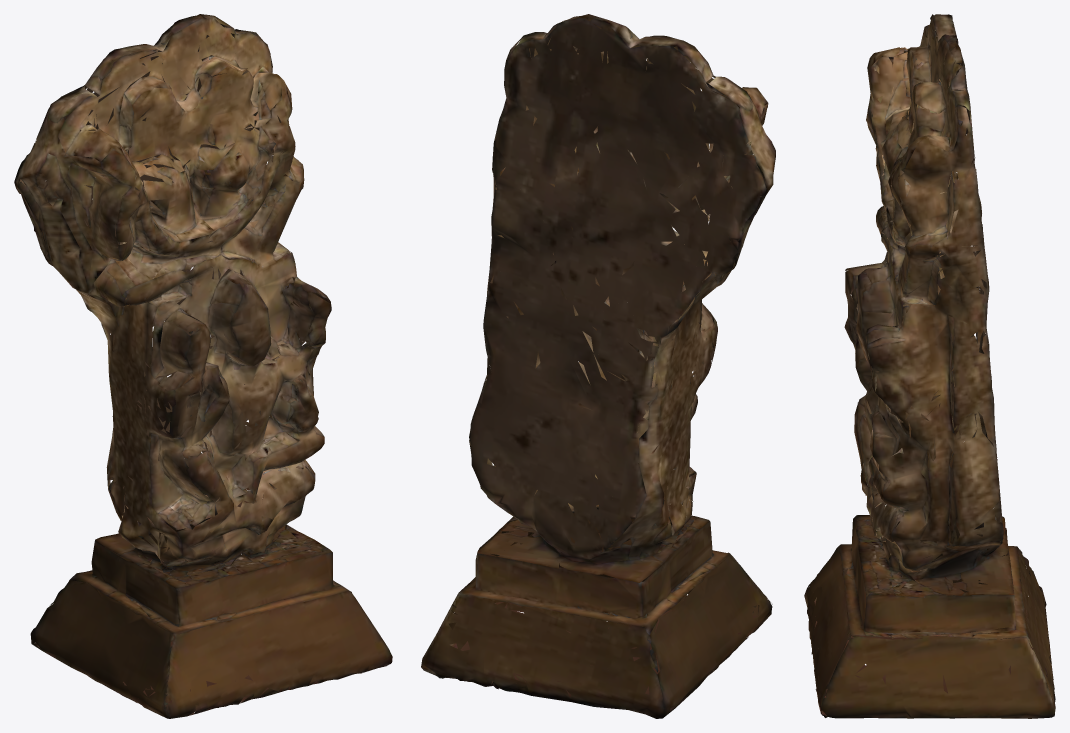
The model's file is shiva-garland-lo.glb.
The picture shows the model from 3 angles, left to right: view 1: azimuth 30°, elevation 25°; view 2: azimuth 150°, elevation 25°; view 3: azimuth 270°, elevation 25°; orthographic projection. The views are drawn at different scales.
Parts seen in each view (by area): view 1: Object_3, Object_2; view 2: Object_2, Object_3; view 3: Object_2, Object_3.
Boxes of the visible parts, x1,y1,x2,y2 form: Object_3: (18, 15, 390, 714); Object_2: (14, 14, 392, 718); Object_2: (421, 14, 775, 718); Object_3: (446, 18, 772, 707); Object_2: (804, 14, 1055, 718); Object_3: (807, 14, 1055, 717).
Bounding box in the file's own units: 177 × 349 × 128.
Materials: 1 (1 with a texture image).
